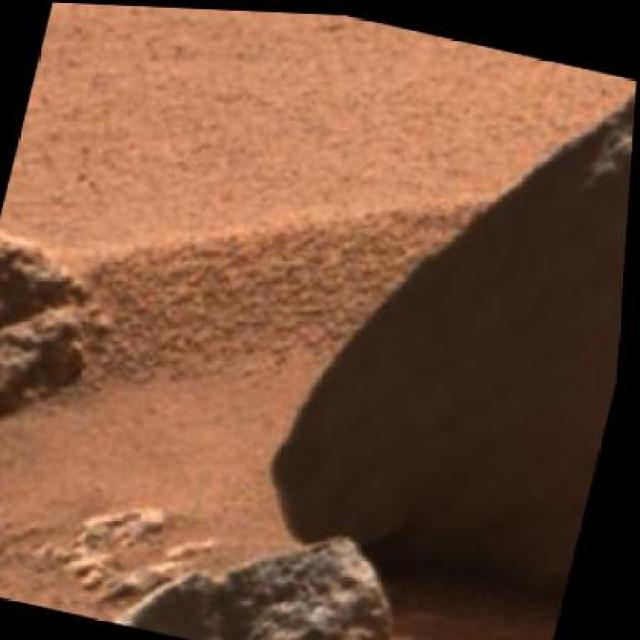rock: (253, 17, 638, 626), (0, 225, 134, 526)
